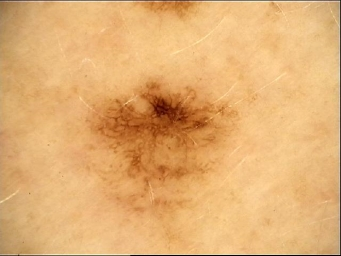melanoma: (88, 81, 237, 212)
